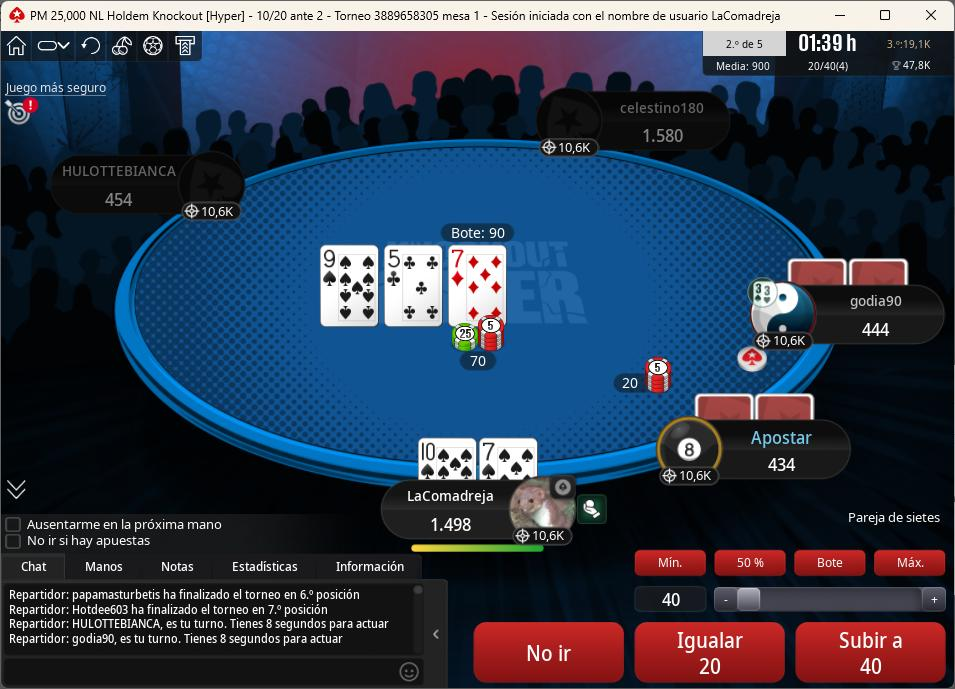ButtonCall: (632, 618, 787, 685)
ButtonFold: (472, 620, 631, 685)
ButtonMaxRaise: (872, 546, 946, 579)
ButtonMinRaise: (633, 547, 711, 580)
ButtonPotRaise: (793, 544, 868, 582)
ButtonRaise: (792, 618, 947, 684)
HiddenCards: (692, 393, 822, 423), (787, 259, 913, 286)
Player: (652, 421, 854, 490), (748, 283, 951, 351), (50, 151, 247, 215), (546, 92, 734, 158)
PlayerBet: (610, 353, 686, 400)
PlayerChips: (633, 125, 692, 144), (762, 455, 808, 476), (95, 191, 140, 211), (856, 321, 897, 342)
Pot: (436, 223, 516, 243)
PrincipalCards: (413, 438, 542, 484)
PrincipalCards1: (416, 435, 478, 484)
PrincipalCards2: (478, 434, 540, 483)
PrincipalPlayer: (385, 475, 587, 551)
PrincipalPlayerChips: (421, 516, 483, 537)
ShowedCards: (315, 242, 512, 332)
ShowedCards1: (317, 243, 381, 329)
ShowedCards2: (383, 245, 443, 327)
ShowedCards3: (448, 245, 510, 328)
SmallBigBlind: (244, 7, 336, 28)
TablePot: (433, 322, 524, 380)
